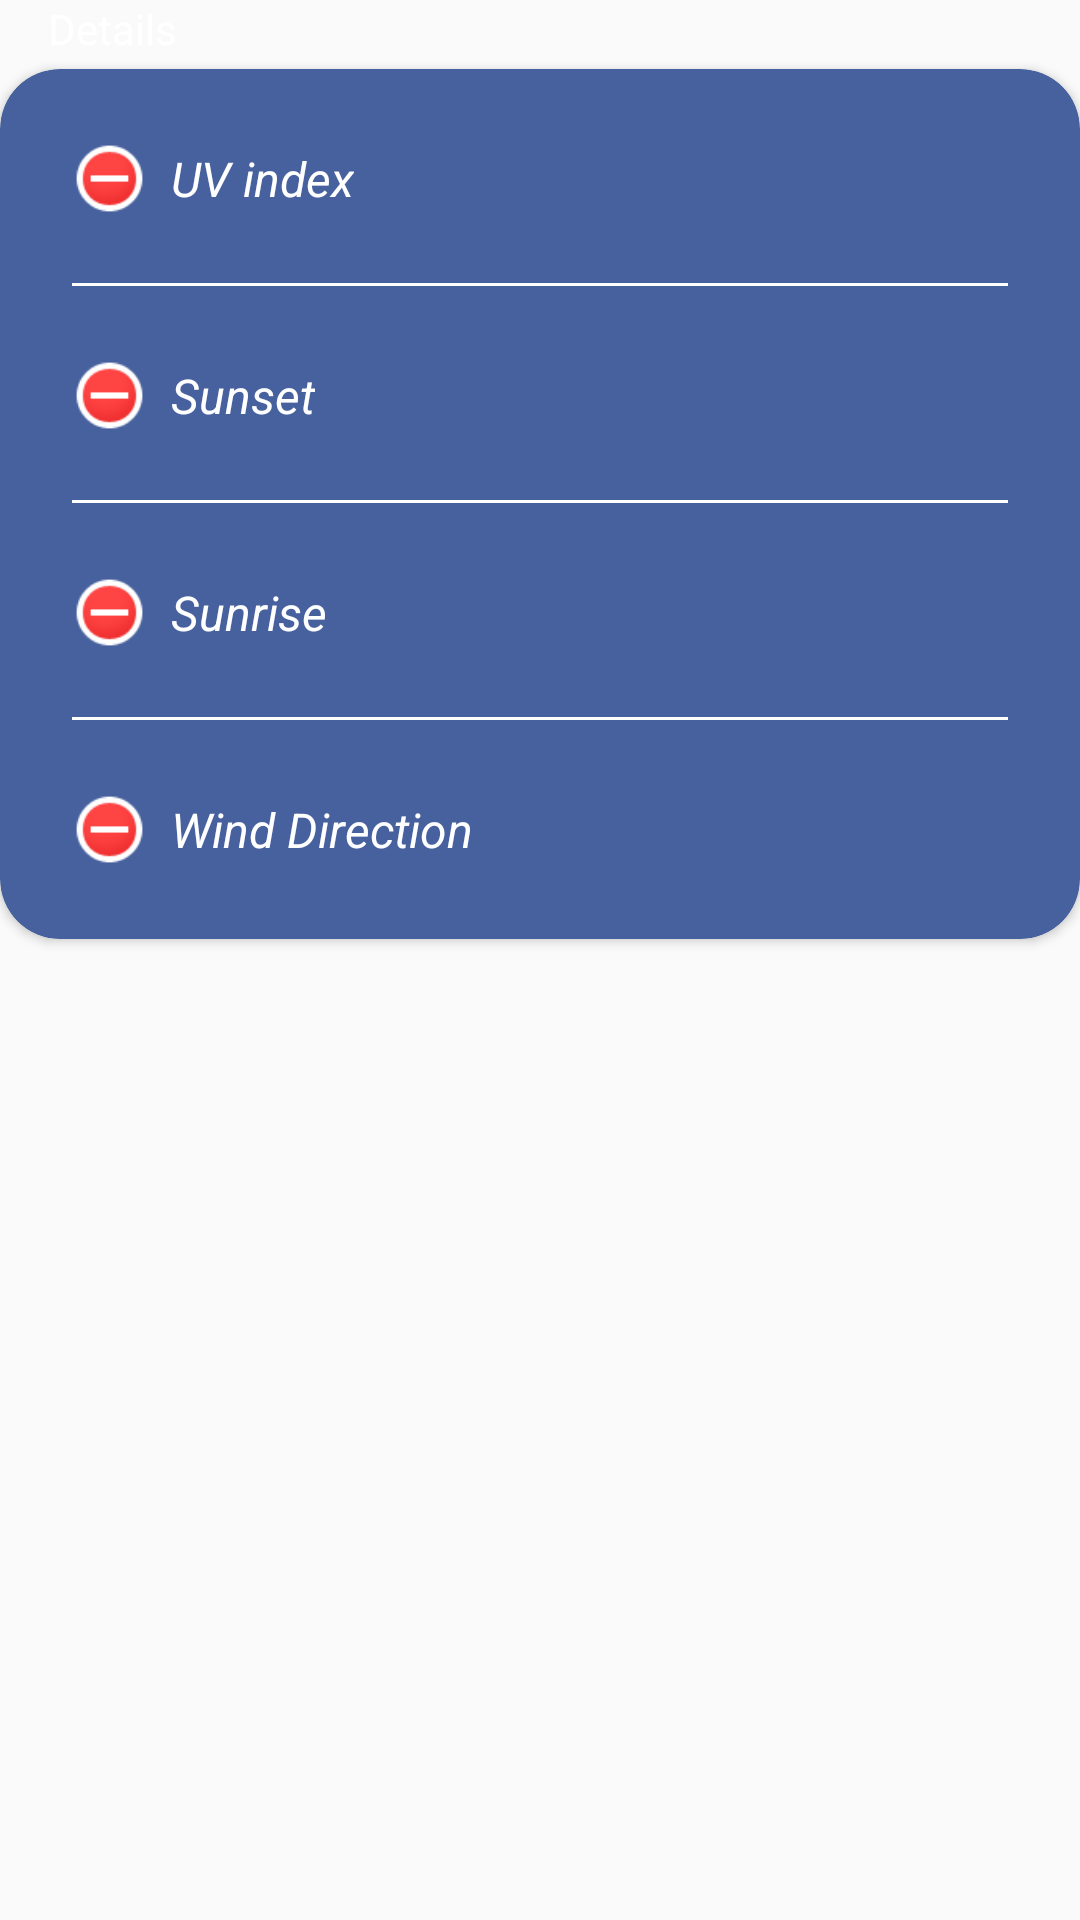

Icons on this 1080 × 1920 Android screen, each with the point to tap as (x,y):
presence busy: (109,178), (109,395), (109,612), (109,829)
